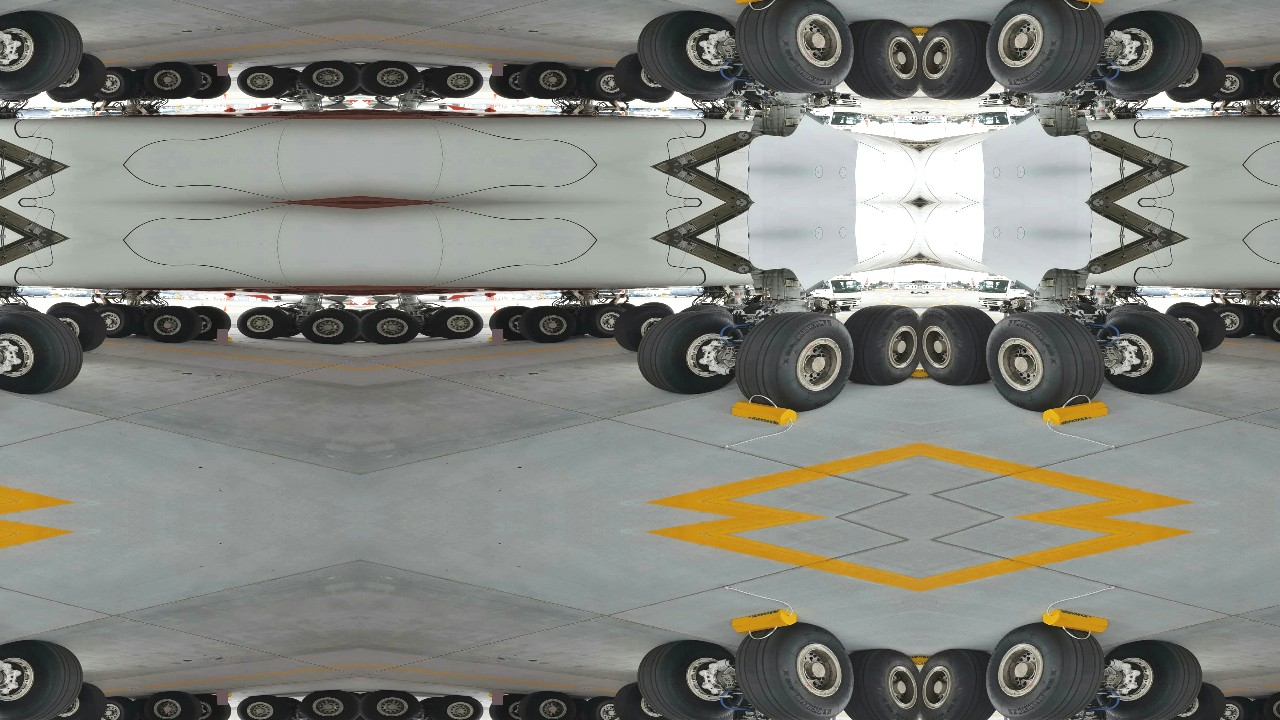chock: (730, 399, 801, 426), (1039, 399, 1110, 426), (730, 609, 801, 636), (1039, 609, 1110, 636), (882, 23, 920, 39), (920, 23, 958, 39), (882, 653, 920, 669), (920, 653, 958, 669), (882, 366, 920, 381), (920, 366, 958, 381), (730, 0, 801, 6), (1039, 0, 1110, 6), (213, 61, 235, 68), (485, 61, 507, 68), (213, 336, 235, 343), (485, 336, 507, 343), (213, 691, 235, 698), (485, 691, 507, 698)
wheel: (731, 308, 856, 411), (984, 308, 1109, 411), (731, 0, 856, 97), (984, 0, 1109, 97), (731, 623, 856, 720), (984, 623, 1109, 720), (637, 9, 744, 98), (1096, 9, 1203, 98), (637, 307, 744, 396), (1096, 307, 1203, 396), (637, 639, 744, 720), (1096, 639, 1203, 720), (0, 9, 83, 98), (0, 307, 83, 396), (839, 19, 920, 102), (920, 19, 1001, 102), (839, 303, 920, 386), (920, 303, 1001, 386), (0, 639, 83, 720), (839, 649, 920, 720), (920, 649, 1001, 720), (43, 53, 107, 103), (613, 53, 677, 103), (1163, 53, 1227, 103), (43, 301, 107, 351), (613, 301, 677, 351), (1163, 301, 1227, 351), (43, 683, 107, 720), (613, 683, 677, 720), (1163, 683, 1227, 720), (143, 304, 201, 344), (519, 304, 577, 344), (298, 60, 360, 97), (360, 60, 422, 97), (298, 308, 360, 345), (360, 308, 422, 345), (143, 61, 201, 100), (519, 61, 577, 100), (236, 305, 294, 340), (426, 305, 484, 340), (236, 65, 294, 99), (426, 65, 484, 99), (298, 690, 360, 720), (360, 690, 422, 720), (187, 63, 233, 100), (487, 63, 533, 100), (187, 304, 233, 341), (487, 304, 533, 341), (143, 691, 201, 720), (519, 691, 577, 720), (94, 66, 139, 102), (581, 66, 626, 102), (1214, 66, 1259, 102), (94, 303, 139, 339), (581, 303, 626, 339), (1214, 303, 1259, 339), (236, 695, 294, 720), (426, 695, 484, 720), (187, 693, 233, 720), (487, 693, 533, 720), (94, 696, 139, 720), (581, 696, 626, 720), (1214, 696, 1259, 720), (127, 303, 156, 336), (564, 303, 593, 336), (1247, 303, 1276, 336), (679, 84, 731, 102), (1109, 84, 1161, 102), (127, 69, 156, 101), (564, 69, 593, 101), (1247, 69, 1276, 101), (679, 303, 731, 320), (1109, 303, 1161, 320), (338, 63, 360, 97), (360, 63, 382, 97), (0, 84, 41, 102), (338, 308, 360, 341), (360, 308, 382, 341), (0, 303, 41, 320), (1263, 304, 1280, 344), (1263, 61, 1280, 100), (127, 699, 156, 720), (564, 699, 593, 720), (1247, 699, 1276, 720), (338, 693, 360, 720), (360, 693, 382, 720), (46, 90, 83, 104), (637, 90, 674, 104), (1166, 90, 1203, 104), (1263, 691, 1280, 720), (46, 301, 83, 314), (637, 301, 674, 314), (1166, 301, 1203, 314), (679, 714, 731, 720), (1109, 714, 1161, 720), (0, 714, 41, 720)
